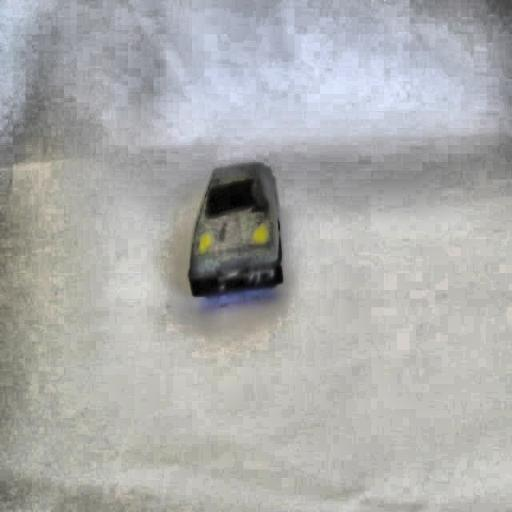normal_car: (184, 160, 286, 299)
